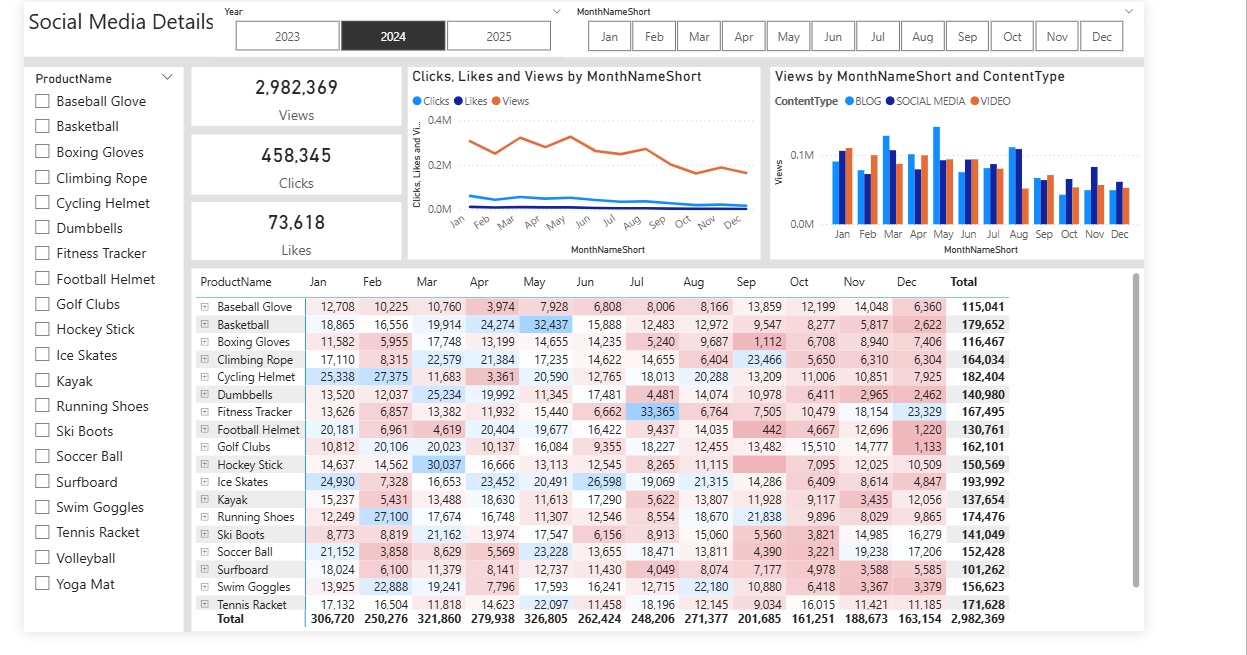

The dashboard page shown, as its layout file describes it:
{"tool":"powerbi","page":{"name":"Social Media Details","canvas":[1280,720],"ordinal":2},"visuals":[{"type":"textbox","box":[0,0,1280,62.7],"z":0},{"type":"slicer","fields":{"Values":["dim_products.ProductName"]},"box":[0,74.1,182.4,645.7],"z":1000},{"type":"card","fields":{"Values":["_Calculations.Views"]},"box":[190.9,74.4,240.2,67.2],"z":2000},{"type":"card","fields":{"Values":["_Calculations.Clicks"]},"box":[190.9,151.3,240.2,68.4],"z":3000},{"type":"card","fields":{"Values":["_Calculations.Likes"]},"box":[190.9,228.1,240.2,66],"z":4000},{"type":"slicer","fields":{"Values":["Calendar.Year"]},"box":[216.1,0,410.7,62.4],"z":5000},{"type":"slicer","fields":{"Values":["Calendar.MonthNameShort"]},"box":[618.2,0,661.8,63.4],"z":6000},{"type":"lineChart","fields":{"Category":["Calendar.MonthNameShort"],"Y":["_Calculations.Clicks","_Calculations.Likes","_Calculations.Views"]},"box":[438.3,74.4,403.5,219.7],"z":7000},{"type":"clusteredColumnChart","fields":{"Category":["Calendar.MonthNameShort"],"Series":["fact_engagement_data.ContentType"],"Y":["_Calculations.Views"]},"box":[852.5,74.4,427.5,219.7],"z":8000},{"type":"pivotTable","fields":{"Rows":["dim_products.ProductName","fact_engagement_data.ContentType"],"Columns":["Calendar.MonthNameShort"],"Values":["_Calculations.Views"]},"box":[190.9,305,1089.1,415.5],"z":9000}]}

Visuals, with their boxes on the page's 1280x720 design canvas (x1, y1, x2, y2). These are canvas units, not pixel positions in the 1247x655 screenshot, which may show the page scaled, cropped or inside an application window:
textbox: l=0, t=0, r=1280, b=63
slicer - dim_products.ProductName: l=0, t=74, r=182, b=720
card - _Calculations.Views: l=191, t=74, r=431, b=142
card - _Calculations.Clicks: l=191, t=151, r=431, b=220
card - _Calculations.Likes: l=191, t=228, r=431, b=294
slicer - Calendar.Year: l=216, t=0, r=627, b=62
slicer - Calendar.MonthNameShort: l=618, t=0, r=1280, b=63
lineChart - Calendar.MonthNameShort x _Calculations.Clicks: l=438, t=74, r=842, b=294
clusteredColumnChart - Calendar.MonthNameShort x fact_engagement_data.ContentType: l=852, t=74, r=1280, b=294
pivotTable - dim_products.ProductName x fact_engagement_data.ContentType: l=191, t=305, r=1280, b=720
